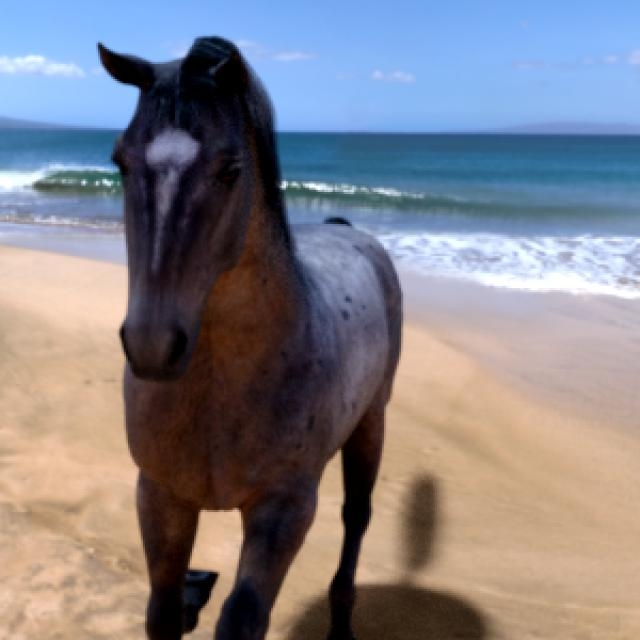horse: (99, 38, 401, 640)
